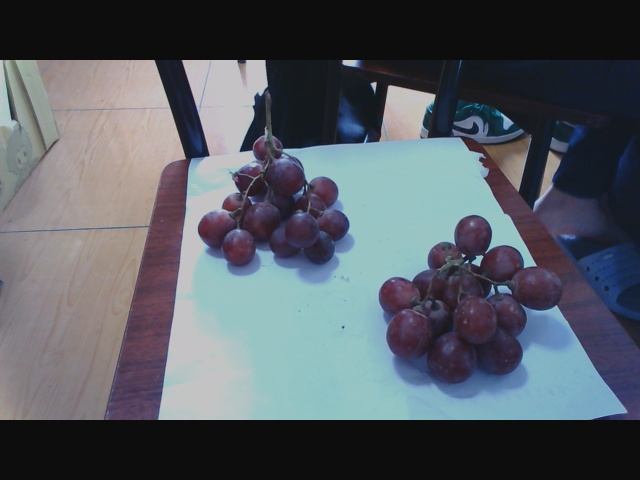grape: (379, 210, 564, 383), (199, 127, 350, 275)
